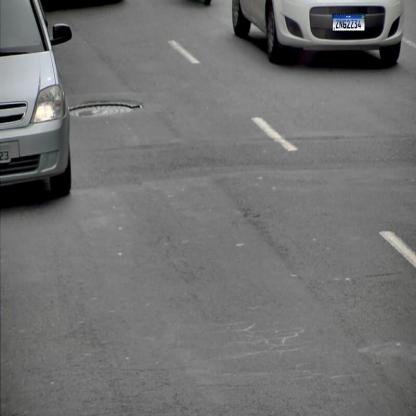PlacaM: (332, 14, 365, 31)
